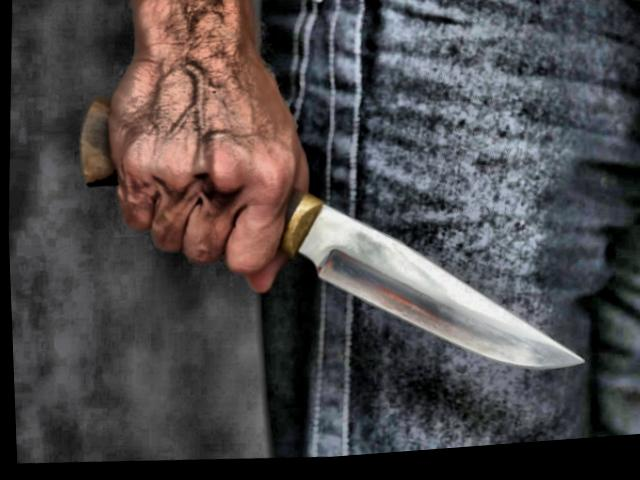knife: (137, 118, 606, 419)
